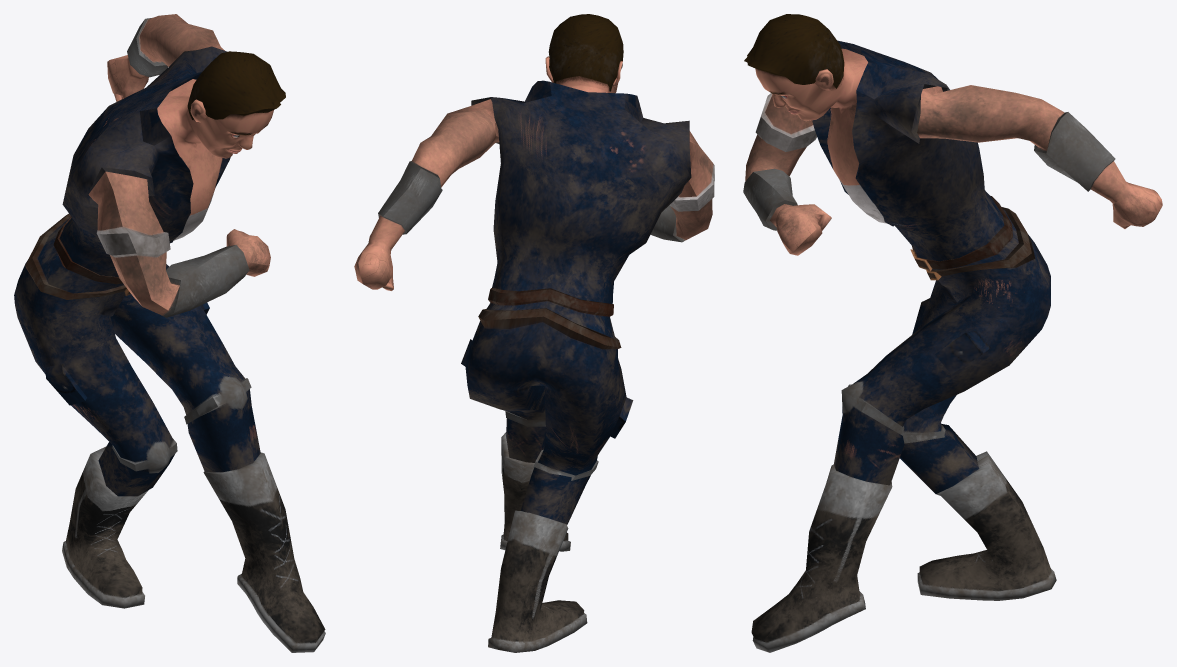
File: Anim_dash_jugador.0023.obj
The picture shows the model from 3 angles, left to right: view 1: azimuth 30°, elevation 25°; view 2: azimuth 150°, elevation 25°; view 3: azimuth 270°, elevation 25°; orthographic projection. The views are drawn at different scales.
Parts seen in each view (by area): view 1: polySurface1; view 2: polySurface1; view 3: polySurface1.
Boxes of the visible parts, left/top/right/bottom form: polySurface1: left=14, top=14, right=325, bottom=652; polySurface1: left=354, top=14, right=714, bottom=652; polySurface1: left=743, top=14, right=1162, bottom=652.
Bounding box in the file's own units: 3 × 8.09 × 5.1.
